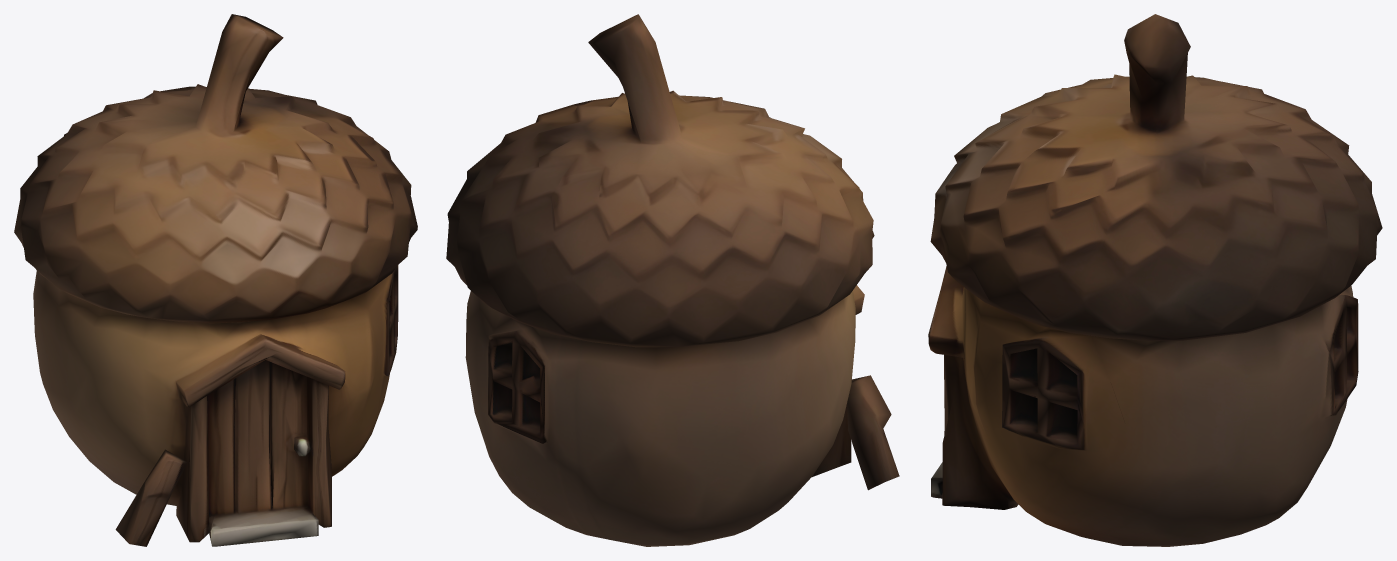
Rendered from AcornHouse3.glb.
The picture shows the model from 3 angles, left to right: view 1: azimuth 30°, elevation 25°; view 2: azimuth 150°, elevation 25°; view 3: azimuth 270°, elevation 25°; orthographic projection. The views are drawn at different scales.
Visible parts, largest first — view 1: tripo_node_617e0d89-c9bb-40e9-8067-a4fc17d57fa0; view 2: tripo_node_617e0d89-c9bb-40e9-8067-a4fc17d57fa0; view 3: tripo_node_617e0d89-c9bb-40e9-8067-a4fc17d57fa0.
Boxes of the visible parts, <box> form: tripo_node_617e0d89-c9bb-40e9-8067-a4fc17d57fa0: <box>14,14,417,546</box>; tripo_node_617e0d89-c9bb-40e9-8067-a4fc17d57fa0: <box>446,14,899,546</box>; tripo_node_617e0d89-c9bb-40e9-8067-a4fc17d57fa0: <box>928,14,1382,546</box>.
Size of the model in its own units: 0.806 by 0.9829 by 0.8163.
Materials: 1 (1 with a texture image).
